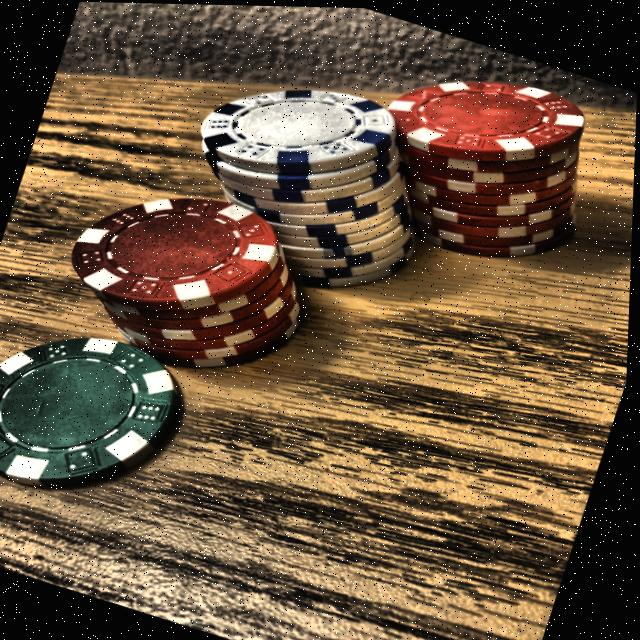Chip: (139, 28, 482, 334), (28, 131, 364, 421), (321, 15, 631, 312), (0, 283, 238, 547)
